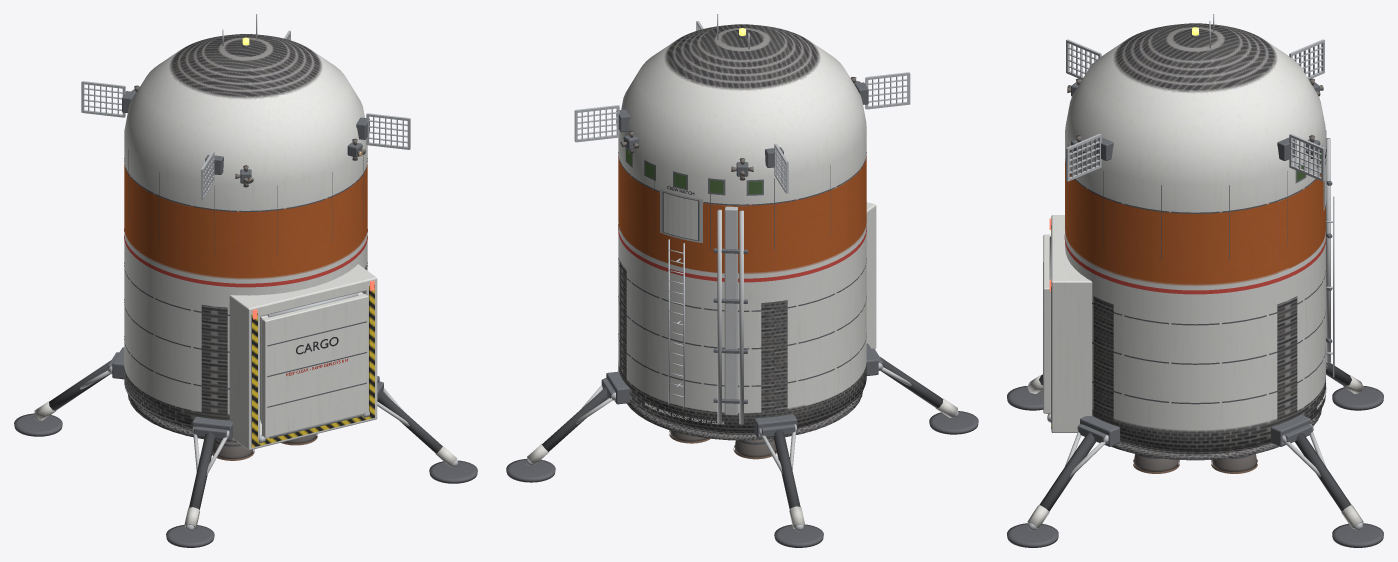
The model's file is dropship_prewarp_b.glb.
3 views of the same model, side by side, from view 1: azimuth 30°, elevation 25°; view 2: azimuth 150°, elevation 25°; view 3: azimuth 270°, elevation 25° (orthographic). The views are drawn at different scales.
Parts seen in each view (by area): view 1: Body, RampBody, Leg2Body, Leg3Body, Leg0Body, Foot2Body, Foot3Body, Foot0Body, RampTipBody; view 2: Body, Leg0Body, Leg1Body, Leg2Body, Foot0Body, Foot1Body, Foot2Body; view 3: Body, Leg1Body, Leg3Body, RampBody, Foot1Body, Foot3Body, Foot0Body, Foot2Body, Leg0Body.
Part boxes in pixels (<box>): Body: <box>81,14,410,460</box>; RampBody: <box>262,293,368,438</box>; Leg2Body: <box>184,426,229,528</box>; Leg3Body: <box>377,381,457,466</box>; Leg0Body: <box>34,352,118,420</box>; Foot2Body: <box>166,524,214,547</box>; Foot3Body: <box>429,460,477,483</box>; Foot0Body: <box>14,413,62,436</box>; RampTipBody: <box>260,292,363,423</box>; Body: <box>574,14,910,459</box>; Leg0Body: <box>759,424,804,528</box>; Leg1Body: <box>527,378,615,465</box>; Leg2Body: <box>872,348,957,417</box>; Foot0Body: <box>774,524,823,547</box>; Foot1Body: <box>506,458,555,482</box>; Foot2Body: <box>929,410,978,434</box>; Body: <box>1047,14,1334,473</box>; Leg1Body: <box>1282,424,1363,528</box>; Leg3Body: <box>1027,424,1108,528</box>; RampBody: <box>1043,234,1051,413</box>; Foot1Body: <box>1332,522,1383,547</box>; Foot3Body: <box>1007,522,1058,547</box>; Foot0Body: <box>1332,386,1383,410</box>; Foot2Body: <box>1007,386,1043,410</box>; Leg0Body: <box>1326,362,1363,393</box>.
Bounding box in the file's own units: 10.41 × 14 × 10.41.
31 materials, 7 textured.
